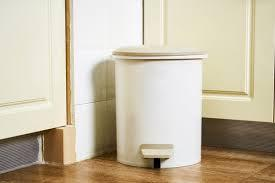dustbin: (114, 47, 206, 168)
